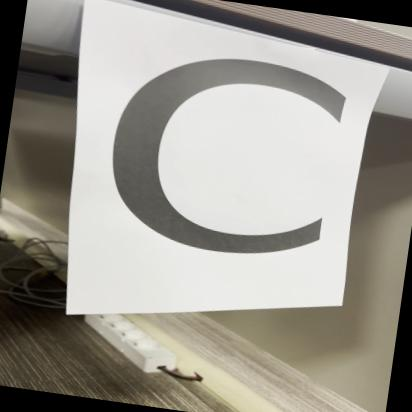seat: (58, 6, 382, 298)
